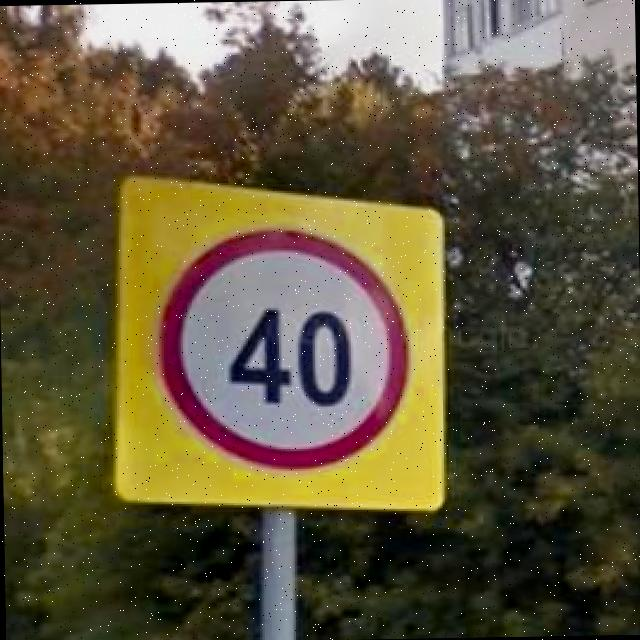Ograniczenie predkosci do 40: (152, 221, 415, 477)
